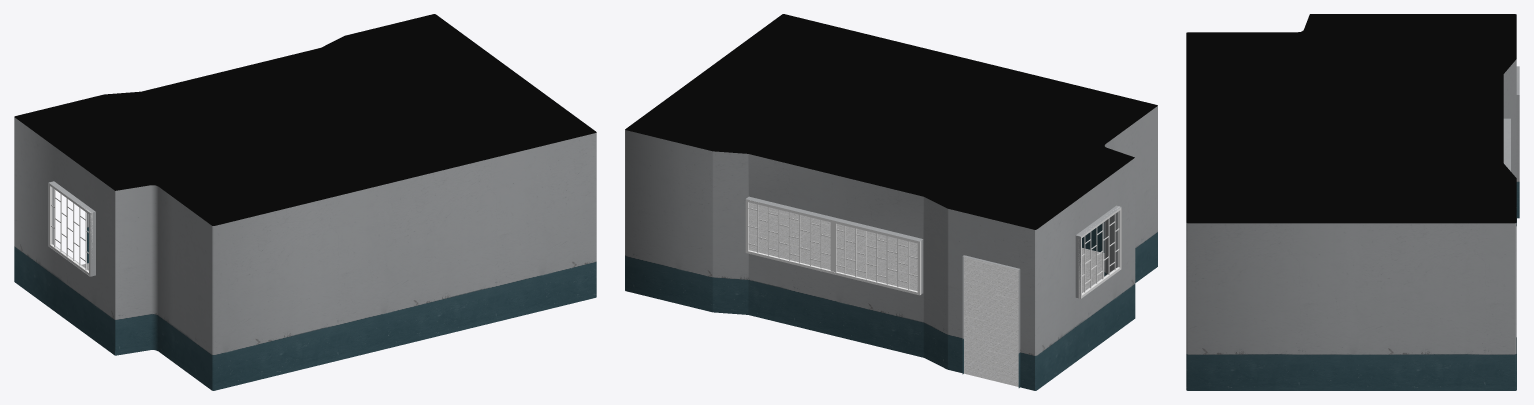
The model's file is room_03_full.fbx.
The picture shows the model from 3 angles, left to right: view 1: azimuth 30°, elevation 25°; view 2: azimuth 150°, elevation 25°; view 3: azimuth 270°, elevation 25°; orthographic projection. The views are drawn at different scales.
Visible parts, largest first — view 1: room_03_full; view 2: room_03_full; view 3: room_03_full.
Boxes of the visible parts, <box> form: room_03_full: <box>14,14,596,390</box>; room_03_full: <box>625,14,1157,390</box>; room_03_full: <box>1186,14,1519,390</box>.
Size of the model in its own units: 319 by 118 by 212.
